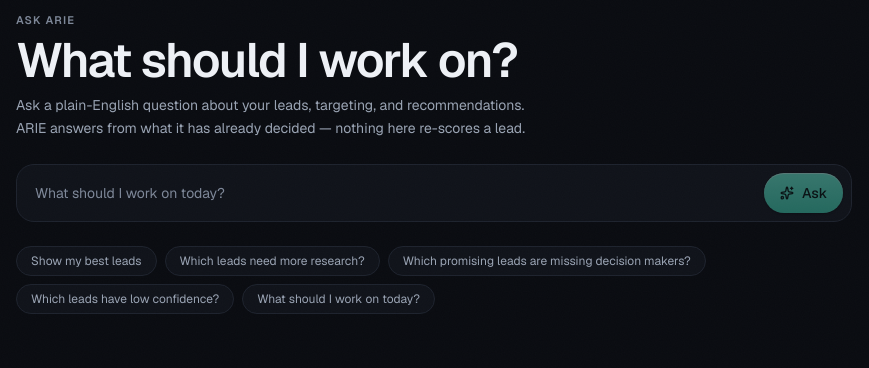
Scenario: AskArieView › shows the controlled unsupported-question answer without special handling
Type "What's the weather?" into the field with placeholder "What should I work on today?" at (390, 193), box [25, 174, 756, 212]
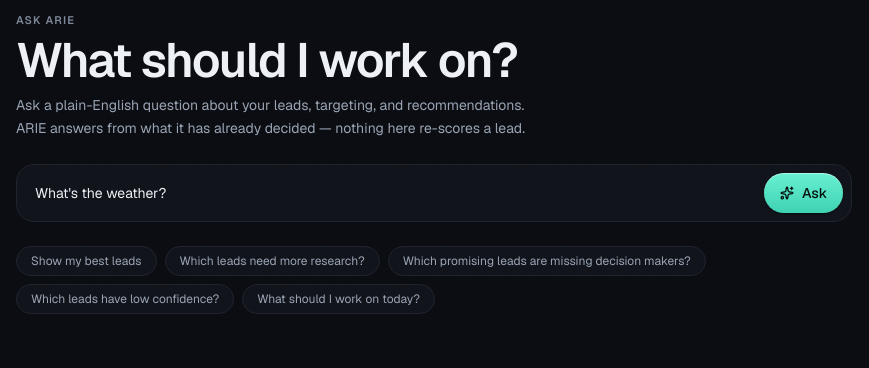
Click the button "Ask" at (803, 193), box [764, 173, 843, 213]
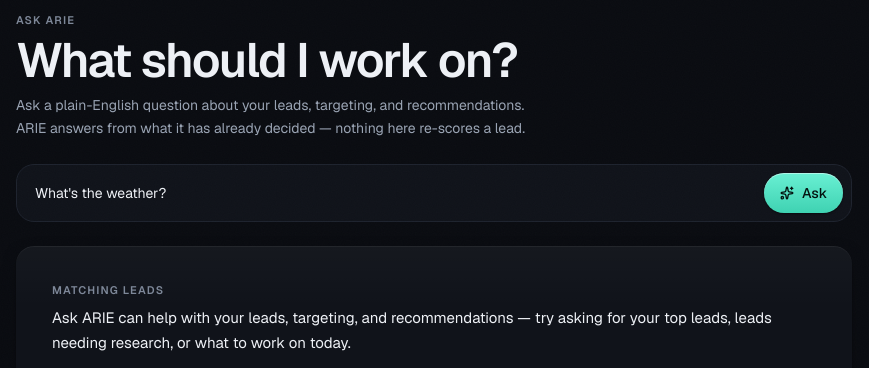
Expected: the text "try asking for your top leads" is shown, [52, 308, 772, 352]
